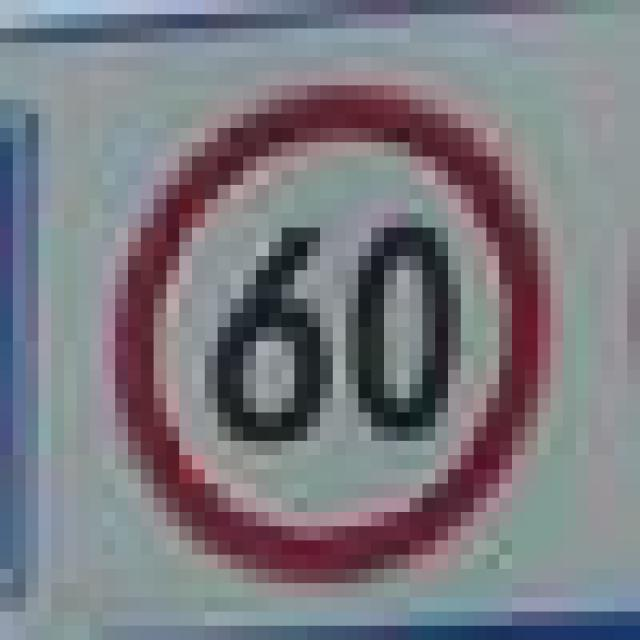SPEED_LIMIT_60: (102, 71, 538, 569)
